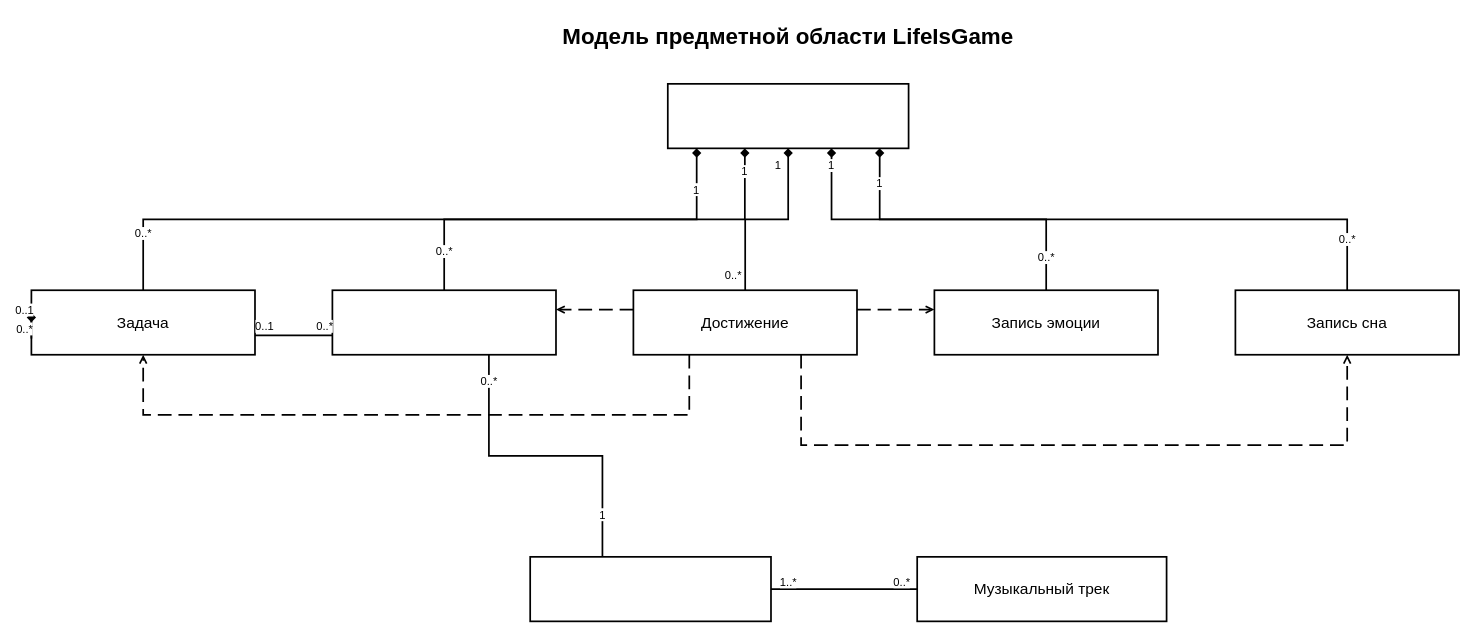
This 1475x636 diagram has some shape labels left out. The shapes that lost their labels are listed below. From the top down, each one's centre as x and y in pixels, then its label:
At pixel 787 116: "Пользователь".
At pixel 443 322: "Фокус-сессия".
At pixel 650 589: "Плейлист фокуса".
